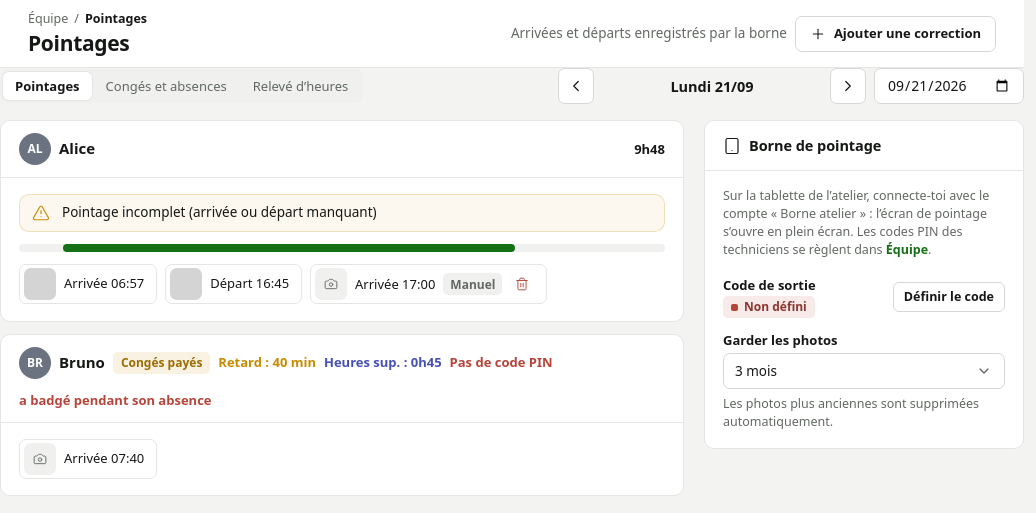
Test: pointages : écran › navigation par jour, pas de jour futur
Check: the element "Alice" is shown, box [0,120,684,322]
Click the button named "Jour précédent" at x=576, y=86, box [558,68,594,104]
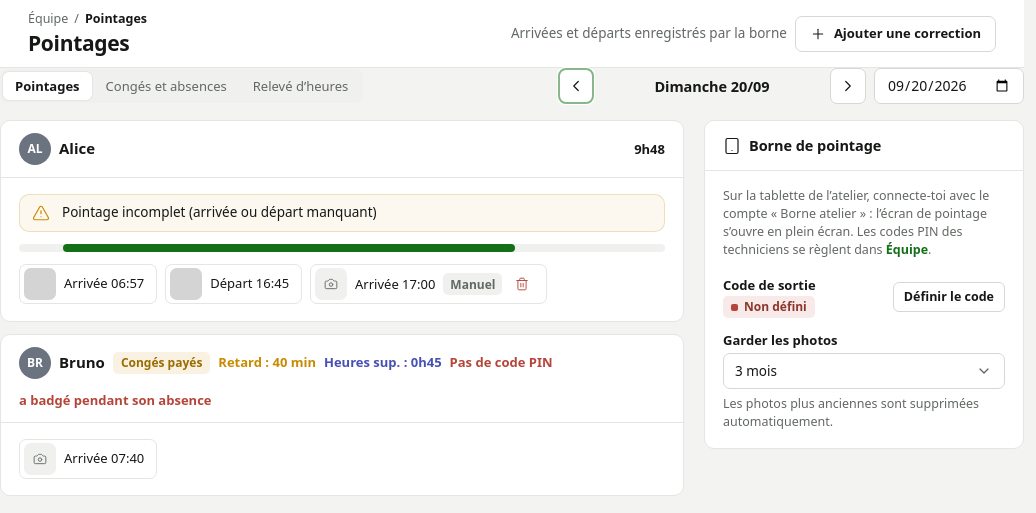
Check: the heading "Dimanche 20/09" is shown, box [654,76,770,96]
